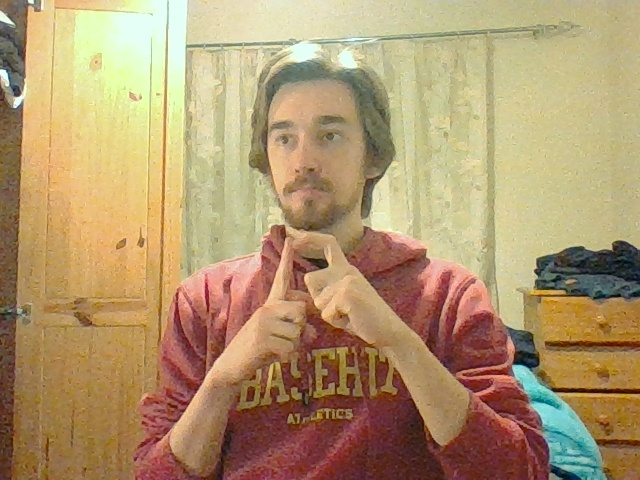daughter: (267, 233, 358, 340)
